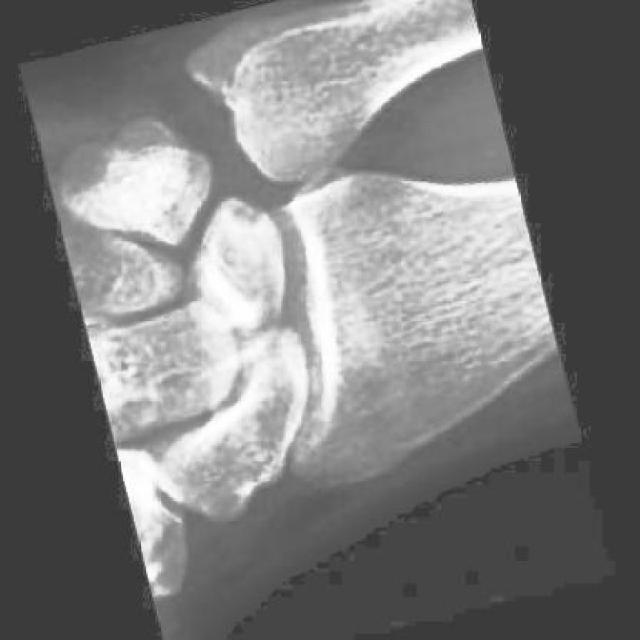Fracture: (294, 225, 440, 487)
